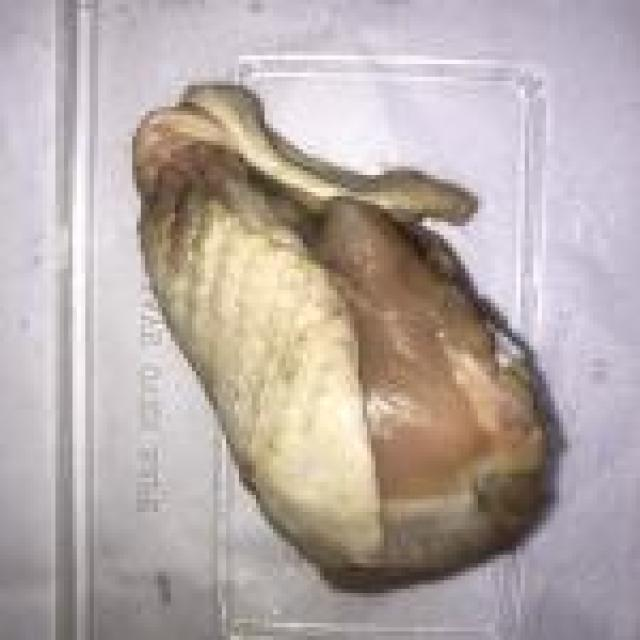breast: (143, 84, 538, 584)
